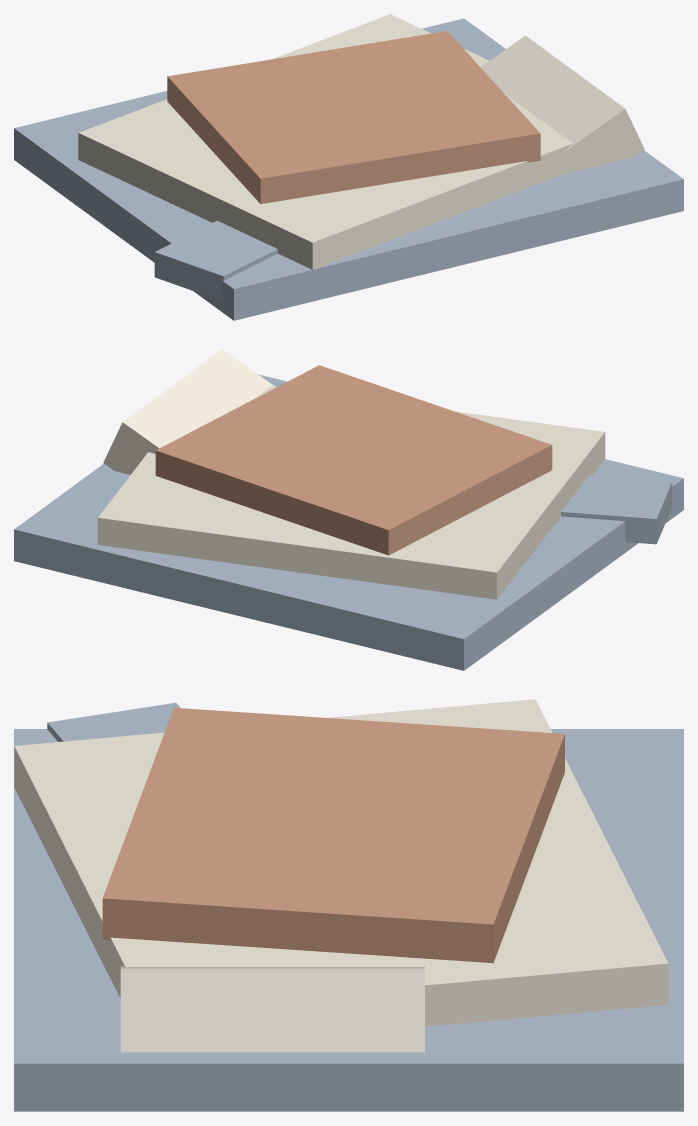
The model's file is clothes-pile-a.gltf.
The picture shows the model from 3 angles, top to bottom: view 1: azimuth 30°, elevation 25°; view 2: azimuth 150°, elevation 25°; view 3: azimuth 270°, elevation 25°; orthographic projection. The views are drawn at different scales.
Parts seen in each view (by area): view 1: heap_top, heap_base, heap_mid, drape, sleeve; view 2: heap_top, heap_base, heap_mid, drape, sleeve; view 3: heap_top, heap_base, heap_mid, drape, sleeve.
Part boxes in pixels (x1,y1,x2,y2): heap_top: [167, 31, 540, 203]; heap_base: [14, 18, 683, 320]; heap_mid: [78, 14, 572, 269]; drape: [481, 35, 644, 174]; sleeve: [154, 220, 277, 300]; heap_top: [155, 365, 552, 555]; heap_base: [14, 374, 683, 670]; heap_mid: [97, 386, 605, 599]; drape: [103, 349, 274, 474]; sleeve: [561, 475, 672, 544]; heap_top: [102, 707, 564, 963]; heap_base: [14, 729, 683, 1111]; heap_mid: [14, 699, 668, 1026]; drape: [120, 966, 424, 1052]; sleeve: [47, 702, 180, 741].
Size of the model in its own units: 0.0344 by 0.00682 by 0.0275.
